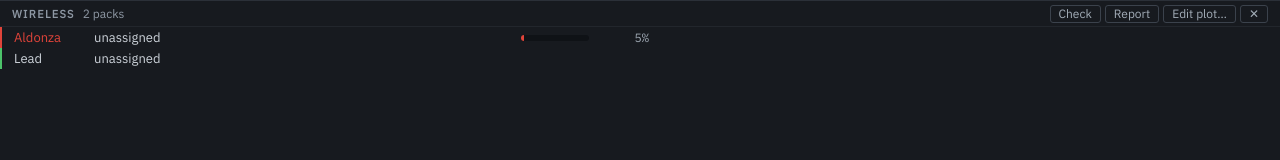
RfPanel › the check › changes as the readings do, which is how it goes green
Click the button with class "rf-btn" showing "Check".
click(1075, 14)  # box [1050,4,1101,22]
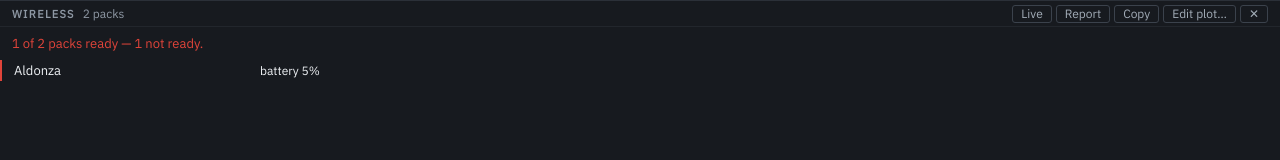
Check: the text with class "rf-check-verdict" shows "not ready", box [12,35,203,52]
